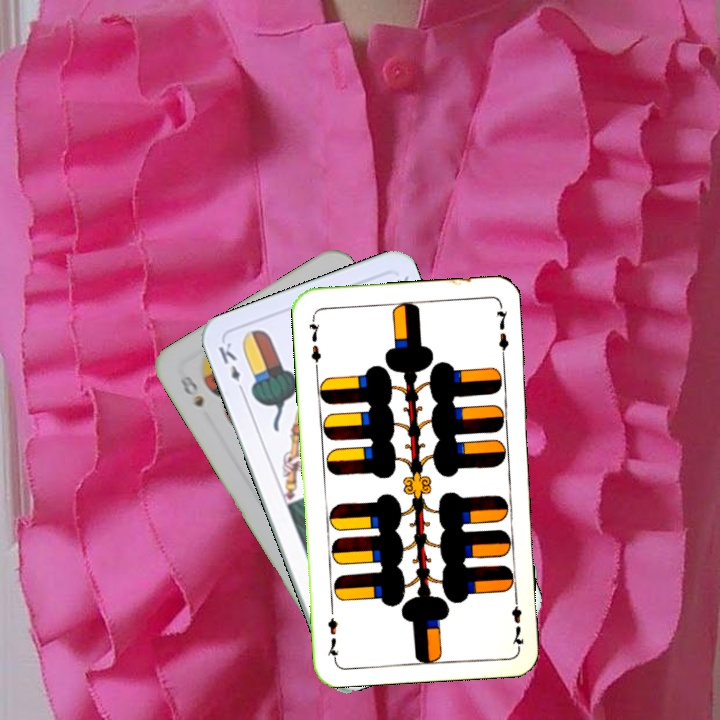E7: (304, 312, 323, 371), (508, 591, 527, 650)
EK: (214, 338, 247, 396)
S8: (175, 371, 207, 410)
